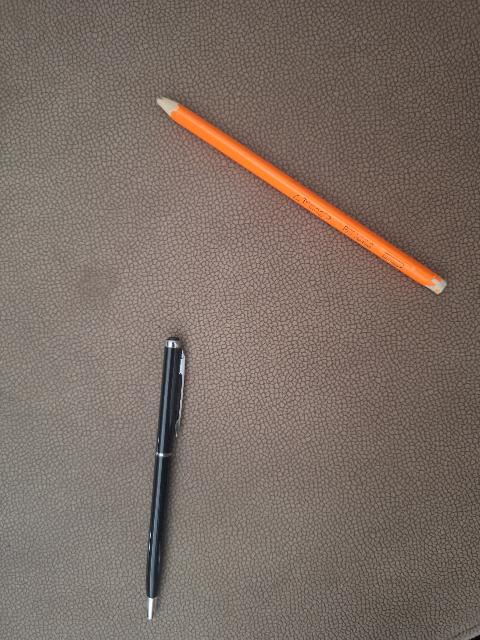writing_tool: (147, 88, 453, 305), (141, 325, 190, 624)
